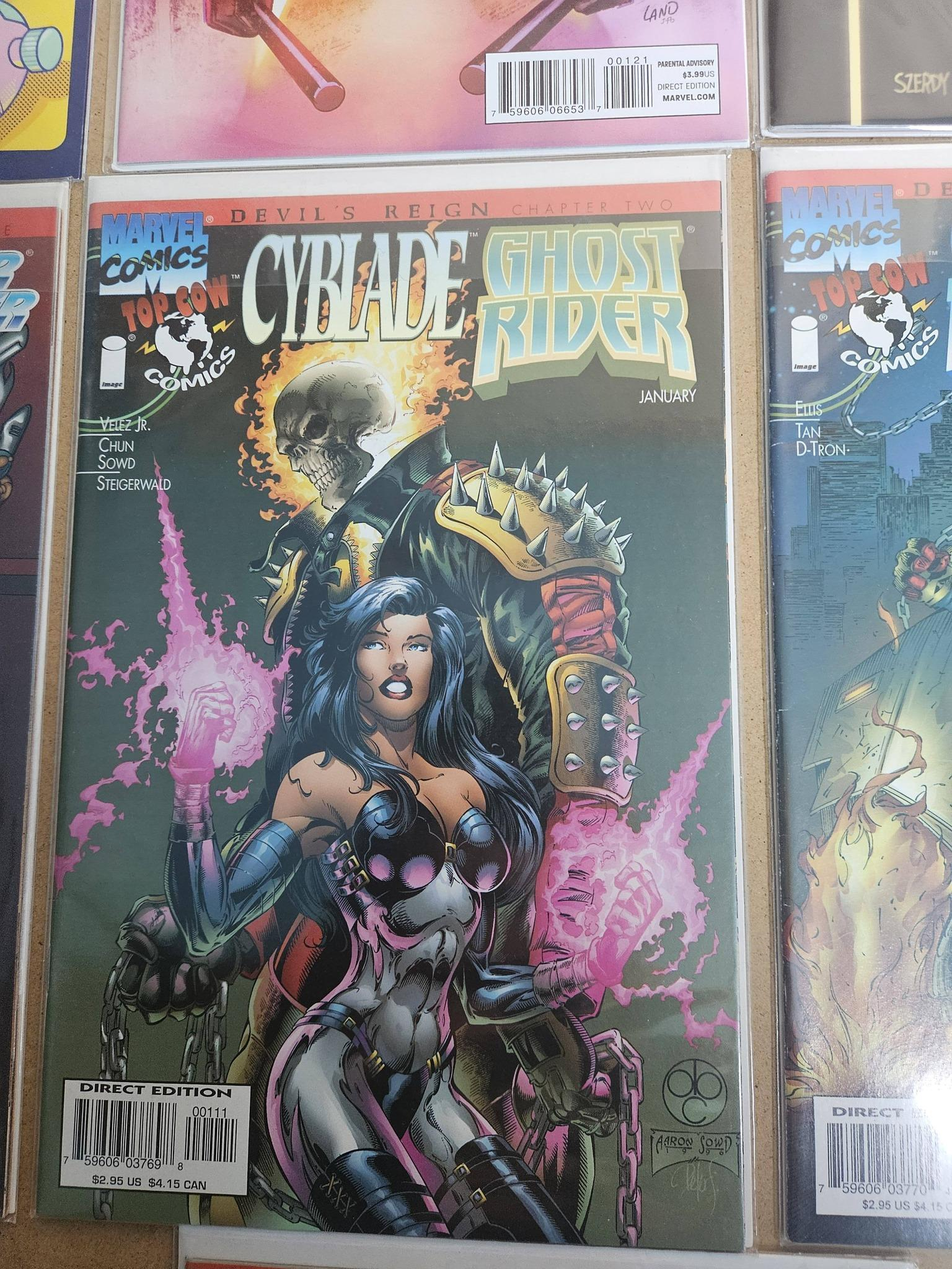comic: (38, 156, 744, 1249)
